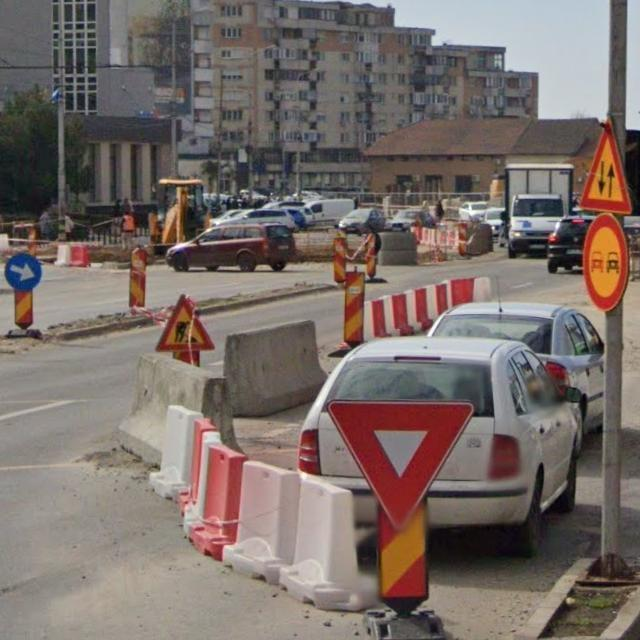forb_overtake: (581, 215, 631, 309)
prio_give_way: (327, 402, 475, 537)
